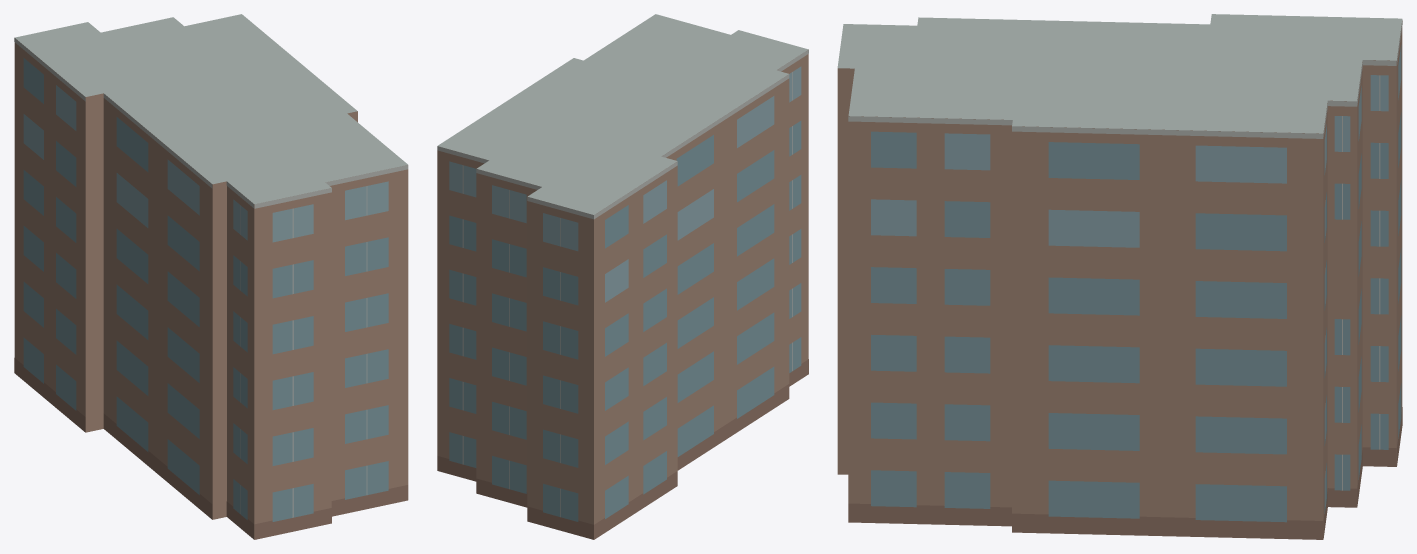
Rendered from survey-upis-32986343.glb.
3 renders of one model, left to right at view 1: azimuth 30°, elevation 25°; view 2: azimuth 150°, elevation 25°; view 3: azimuth 270°, elevation 25°, orthographic. The views are drawn at different scales.
Parts seen in each view (by area): view 1: survey-upis-32986343.tmp; view 2: survey-upis-32986343.tmp; view 3: survey-upis-32986343.tmp.
Part boxes in pixels (<box>): survey-upis-32986343.tmp: <box>14,14,408,539</box>; survey-upis-32986343.tmp: <box>437,14,808,539</box>; survey-upis-32986343.tmp: <box>837,14,1402,539</box>.
Size of the model in its own units: 11.56 by 18.3 by 23.07.
